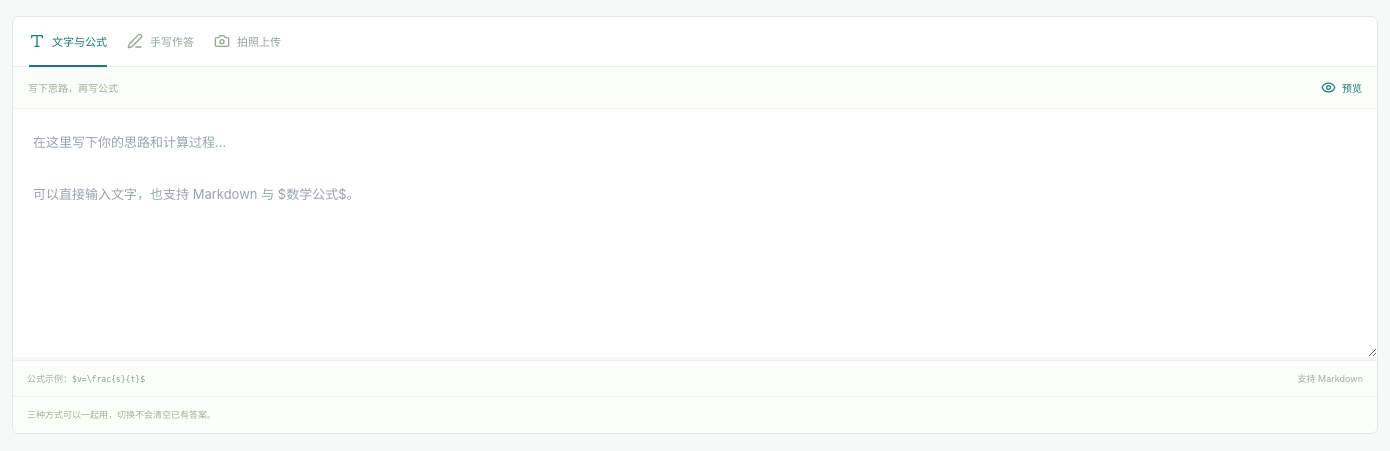
切换到照片作答再返回文字，已经输入的计算过程保留
Type "v=s/t=6" into the text box named "计算题文字答案" at (695, 233), box [13,109,1377,357]
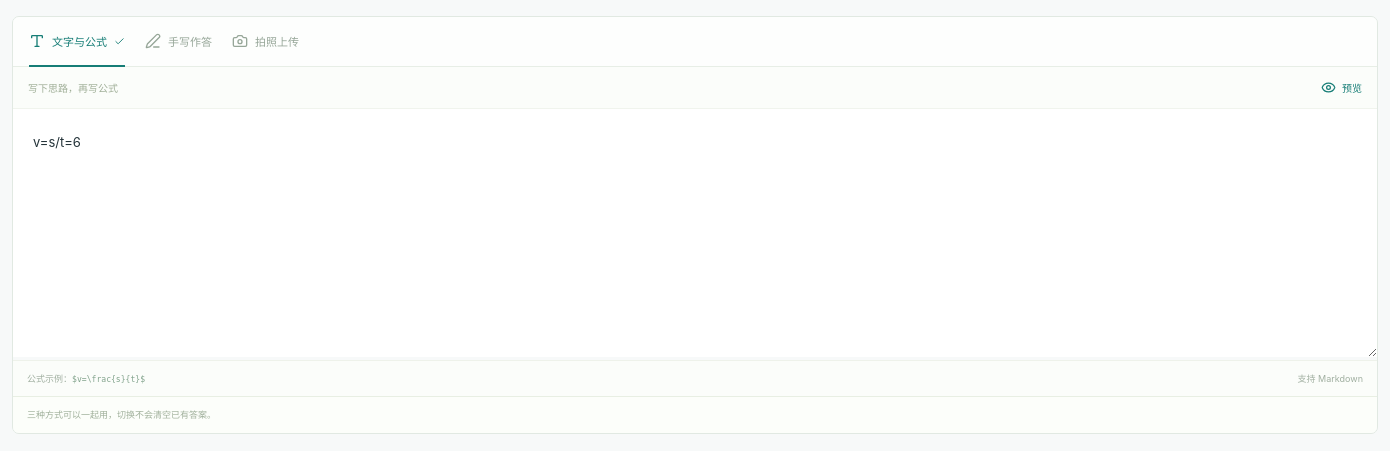
Click the tab "拍照上传" at (266, 42), box [232,17,299,67]
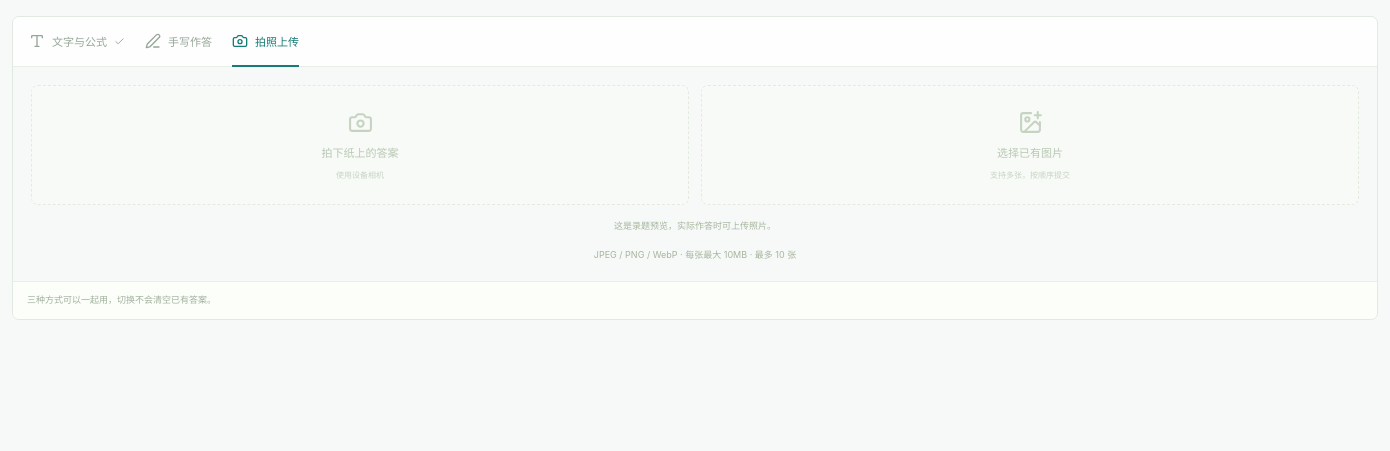
Click the tab "文字与公式" at (77, 42), box [29,17,125,67]
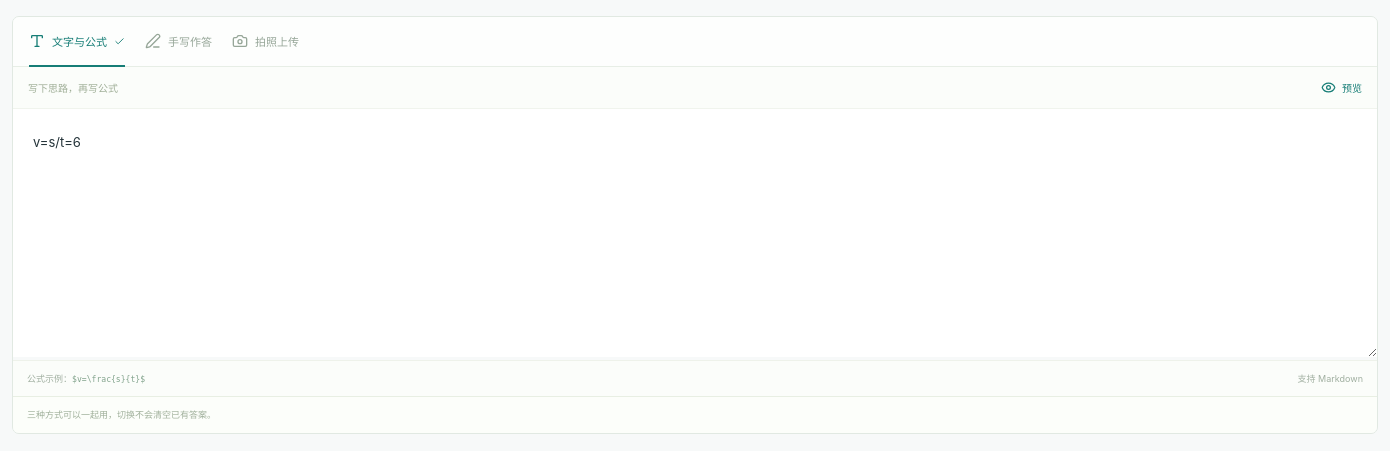
Expected: the text box named "计算题文字答案" holds "v=s/t=6", [13,109,1377,357]
